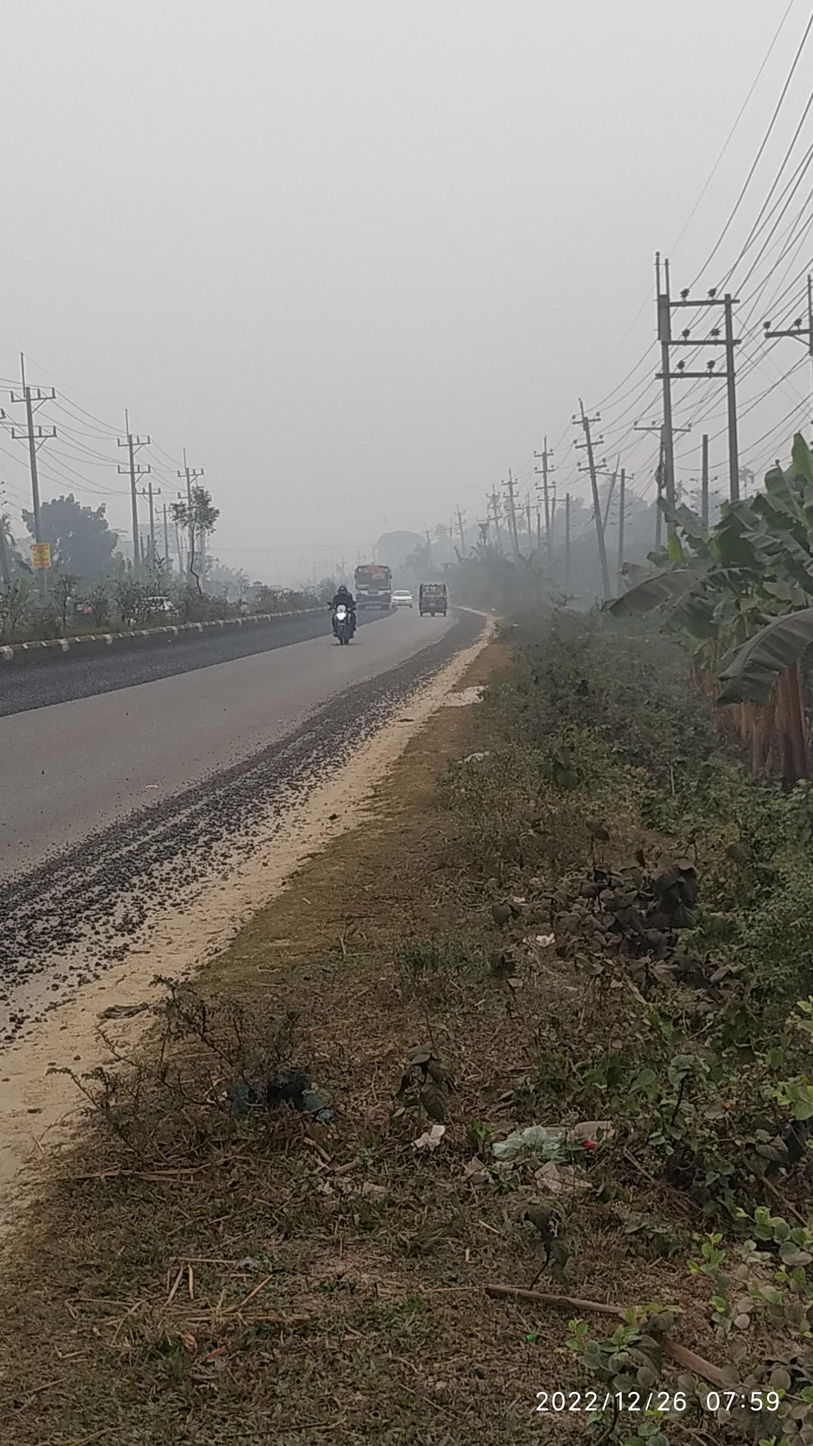Bike: (310, 580, 379, 660)
Bus: (348, 553, 397, 626)
Car: (385, 584, 417, 613)
